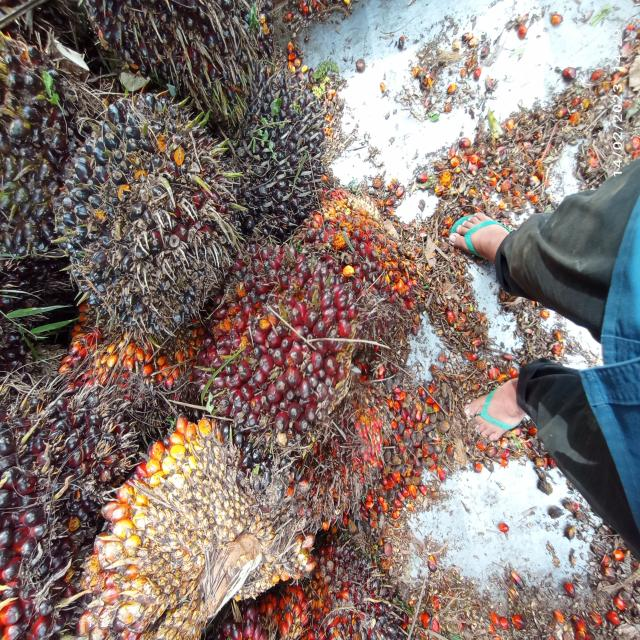fraksi 00: (41, 63, 235, 349), (227, 49, 321, 240)
fraksi 3: (215, 238, 362, 440), (294, 187, 412, 353)
